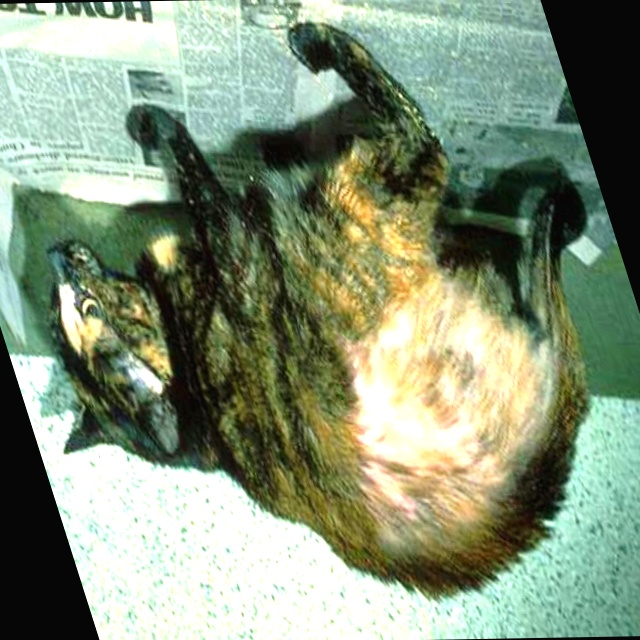hairloss: (338, 329, 603, 513)
